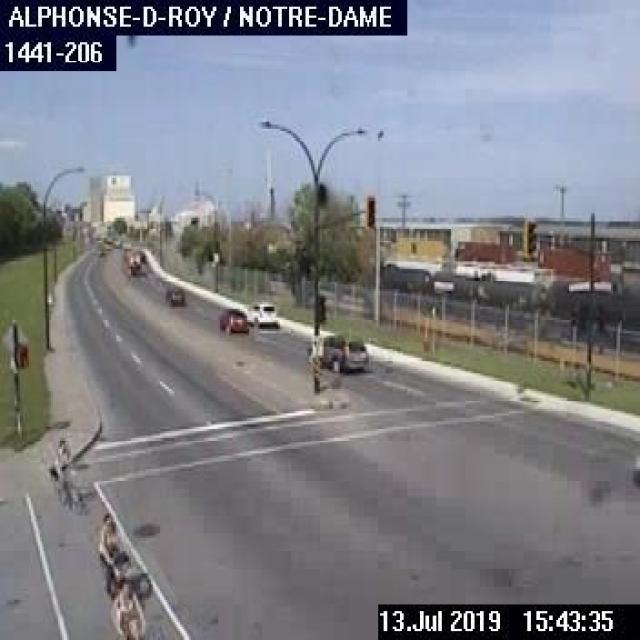cyclist: (50, 436, 82, 511), (104, 582, 144, 638)
pedestrian: (93, 508, 152, 602)
vehicle: (318, 331, 367, 371), (245, 299, 279, 329), (214, 304, 248, 331), (124, 244, 144, 276), (164, 284, 184, 304)
